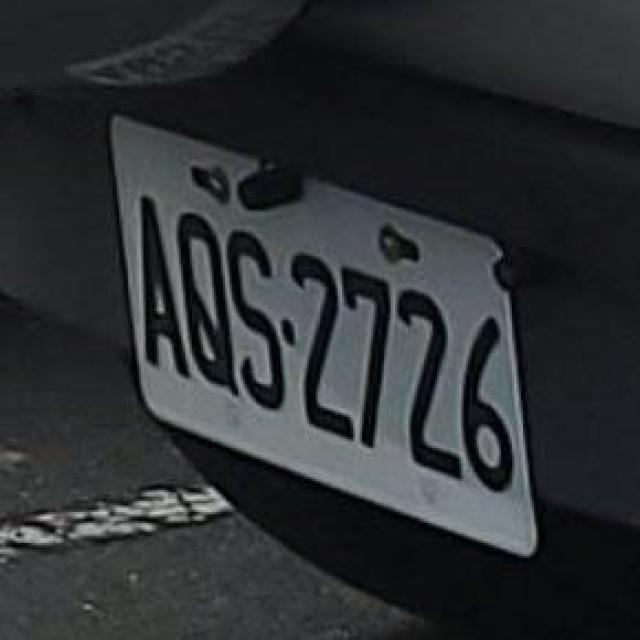W: (82, 100, 556, 558)
